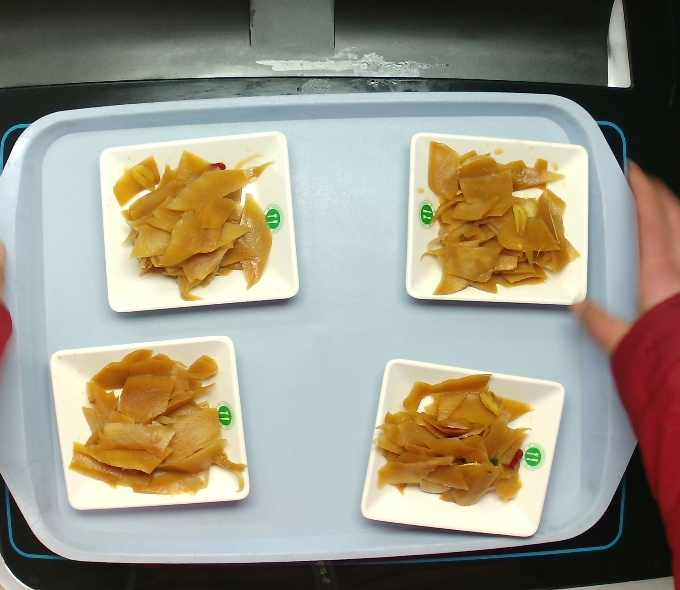wcq-JiangLuoBo: (67, 347, 235, 494), (379, 368, 536, 518), (419, 145, 575, 294), (121, 152, 269, 295)
